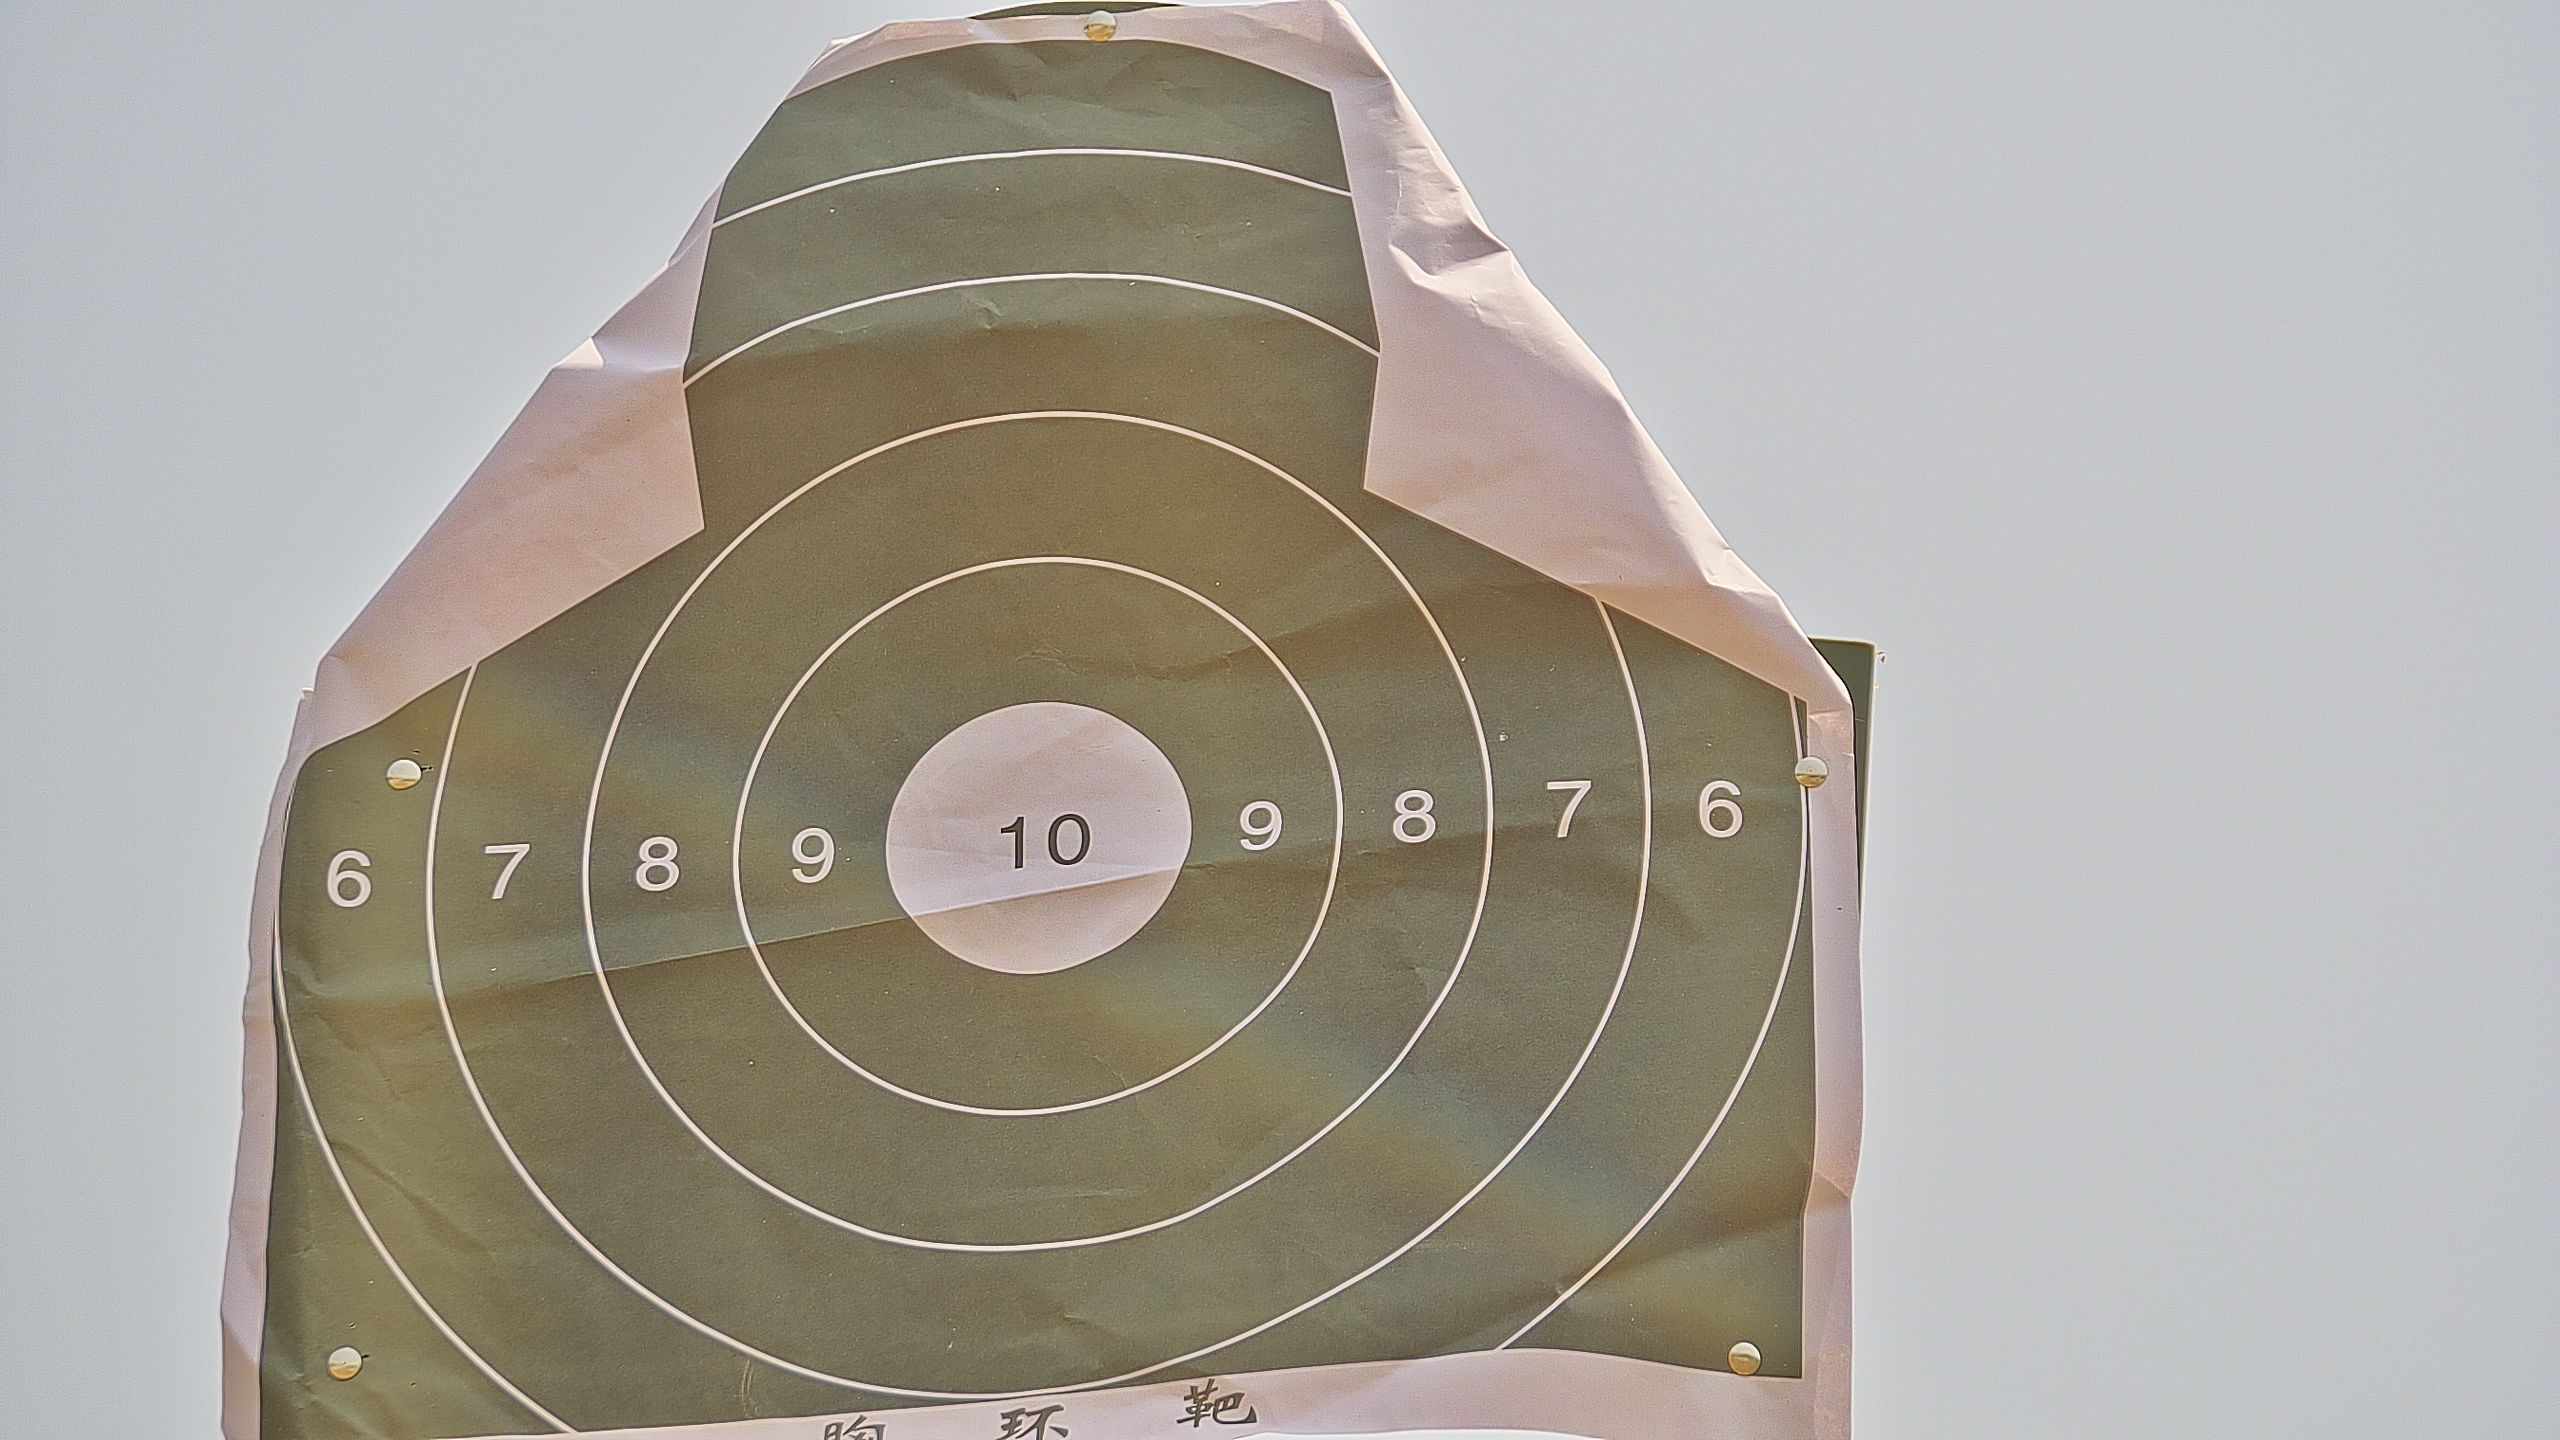target: (253, 40, 1822, 1440)
ten: (881, 696, 1194, 978)
